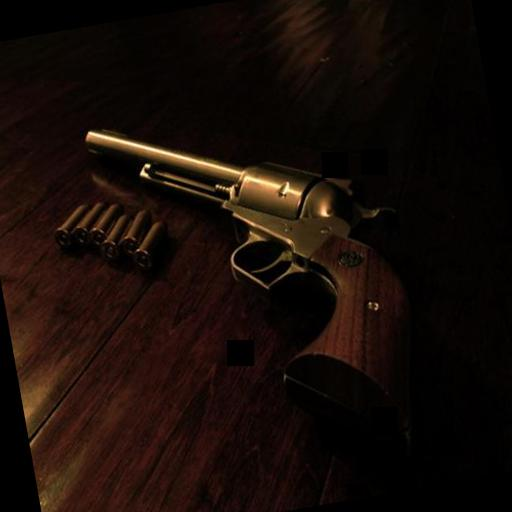Handgun: (78, 74, 430, 498)
